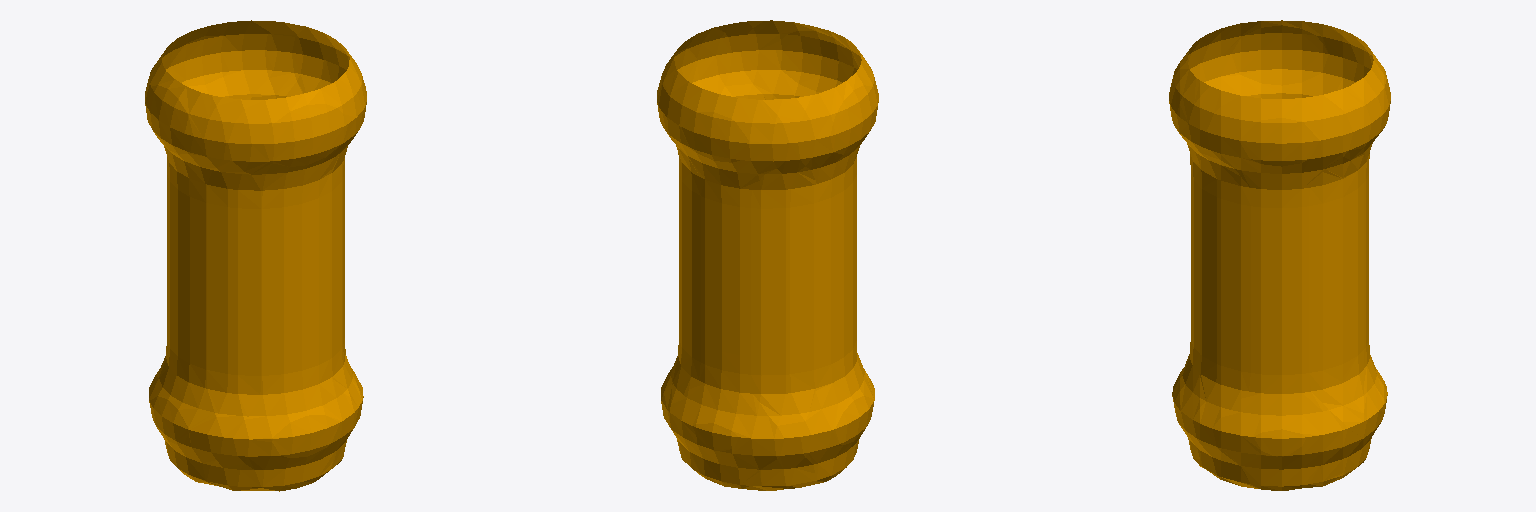
URDF robot description (cylinder_../../meshes/cylinders/cylinder_182.stl):
<?xml version="1.0" encoding="utf-8"?>  <robot name="cylinder_../../meshes/cylinders/cylinder_182.stl">   <link name="cylinder_../../meshes/cylinders/cylinder_182.stl">     <visual>       <geometry>         <mesh filename="../meshes/cylinders/cylinder_182.stl" scale="1 1 1"/>       </geometry>     </visual>     <collision>       <geometry>         <mesh filename="../meshes/cylinders/cylinder_182.stl" scale="1 1 1"/>       </geometry>     </collision>     <inertial>        <origin         xyz="0 0 0"         rpy="0 0 0" />       <mass value="0.1801053427737531"/>       <origin rpy="0 0 0" xyz="0 0 0"/>       <inertia ixx="0.0001041443784855622" ixy="-5.60549665750288e-09" ixz="1.0675059231105677e-07" iyy="0.0001041438492810915" iyz="-1.8536694652316233e-08" izz="4.918667023465215e-05"/>     </inertial>   </link>  </robot>

--- Render facts (derived) ---
The picture shows the robot from 3 angles, left to right: view 1: azimuth 30°, elevation 25°; view 2: azimuth 150°, elevation 25°; view 3: azimuth 270°, elevation 25°; orthographic projection.
Robot: cylinder_../../meshes/cylinders/cylinder_182.stl — 1 links, 0 joints (none); root link cylinder_../../meshes/cylinders/cylinder_182.stl; default pose: all joints at 0.
Visible links, largest first — view 1: cylinder_../../meshes/cylinders/cylinder_182.stl; view 2: cylinder_../../meshes/cylinders/cylinder_182.stl; view 3: cylinder_../../meshes/cylinders/cylinder_182.stl.
Boxes of the visible links, left/top/right/bottom form: cylinder_../../meshes/cylinders/cylinder_182.stl: left=145, top=20, right=366, bottom=491; cylinder_../../meshes/cylinders/cylinder_182.stl: left=657, top=20, right=878, bottom=490; cylinder_../../meshes/cylinders/cylinder_182.stl: left=1169, top=20, right=1390, bottom=490.
Bounding box of the posed robot: 0.0545 × 0.0545 × 0.108 m (x, y, z).
Meshes: 1 distinct files referenced, 1 mesh visuals loaded (1 binary STL).